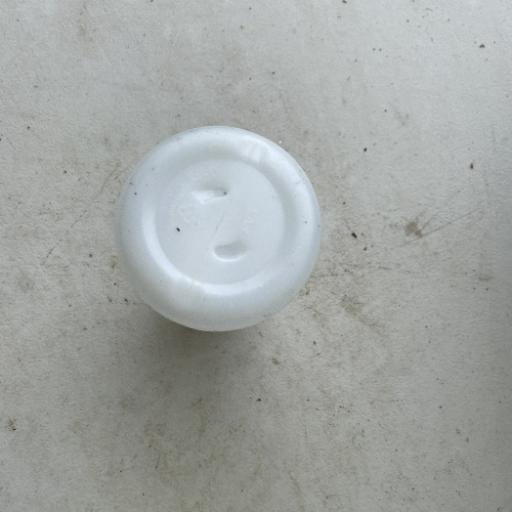Plastic: (112, 122, 324, 335)
